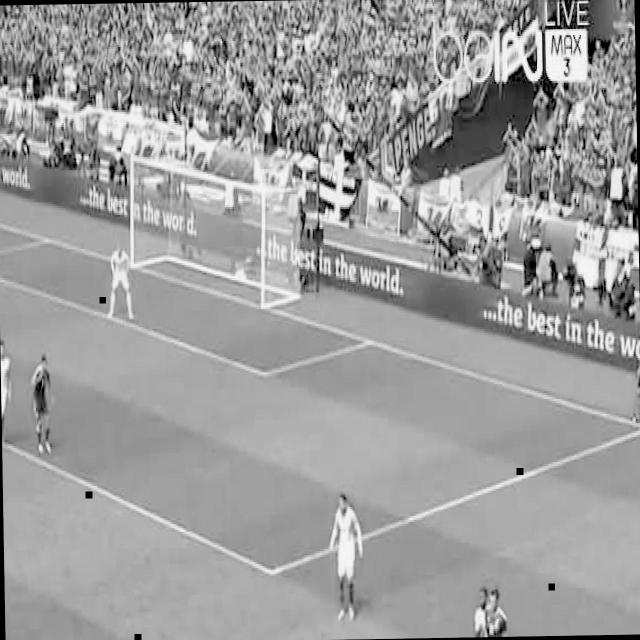player-white: (329, 494, 364, 622), (32, 356, 54, 456), (108, 245, 134, 321), (466, 584, 498, 638), (627, 316, 640, 433), (484, 583, 510, 637), (0, 336, 12, 452)
